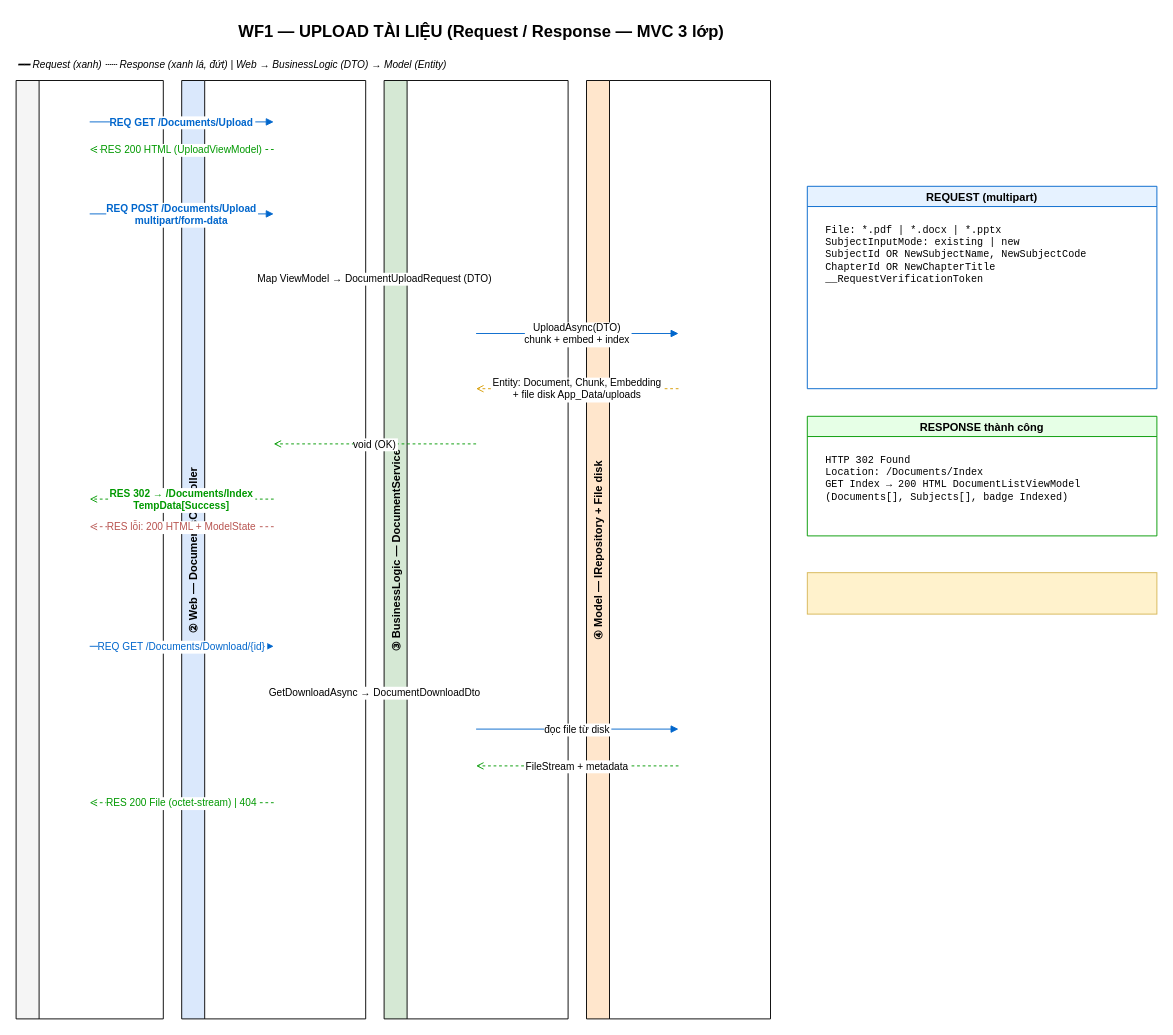
Some shapes in this 1173 by 1035 pixel diagram are drawn without their labels. The centre of each missing label's shape, as x and y in pixels:
Controller KHÔNG gọi DbContext trực tiếp — chỉ gọi IDocumentService: the point at 981,593
① Browser: the point at 89,549
